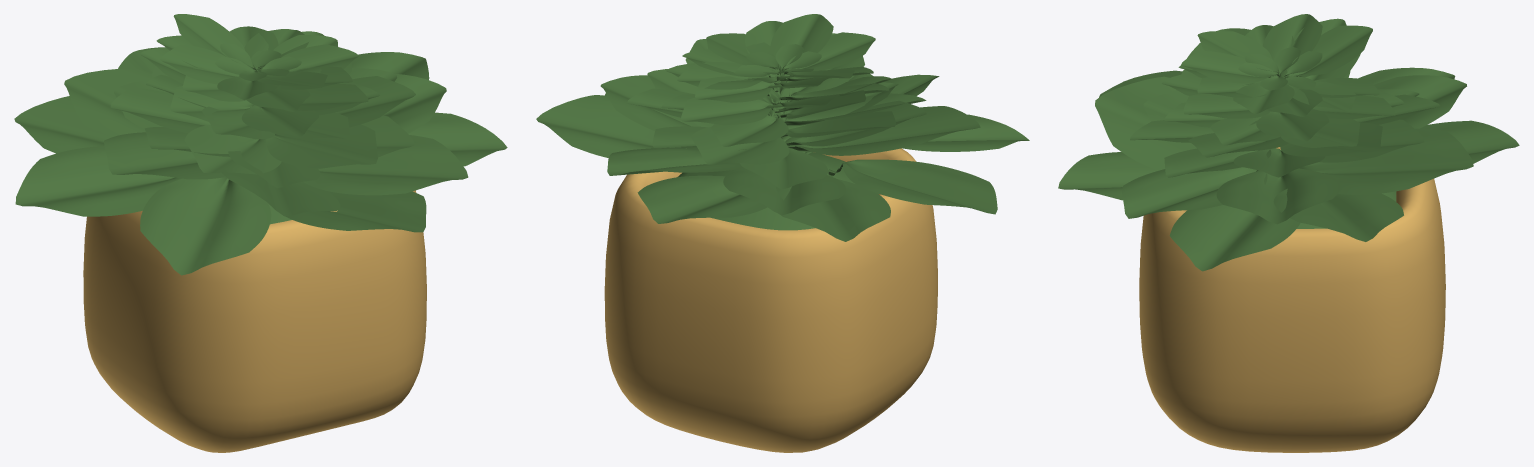
File: short_plant.fbx
The picture shows the model from 3 angles, left to right: view 1: azimuth 30°, elevation 25°; view 2: azimuth 150°, elevation 25°; view 3: azimuth 270°, elevation 25°; orthographic projection. The views are drawn at different scales.
Parts seen in each view (by area): view 1: pPlane4; view 2: pPlane4; view 3: pPlane4.
Boxes of the visible parts, x1,y1,x2,y2 form: pPlane4: (14,14,507,452); pPlane4: (536,14,1029,452); pPlane4: (1058,14,1519,452).
Bounding box in the file's own units: 1.41 × 1.15 × 1.31.
